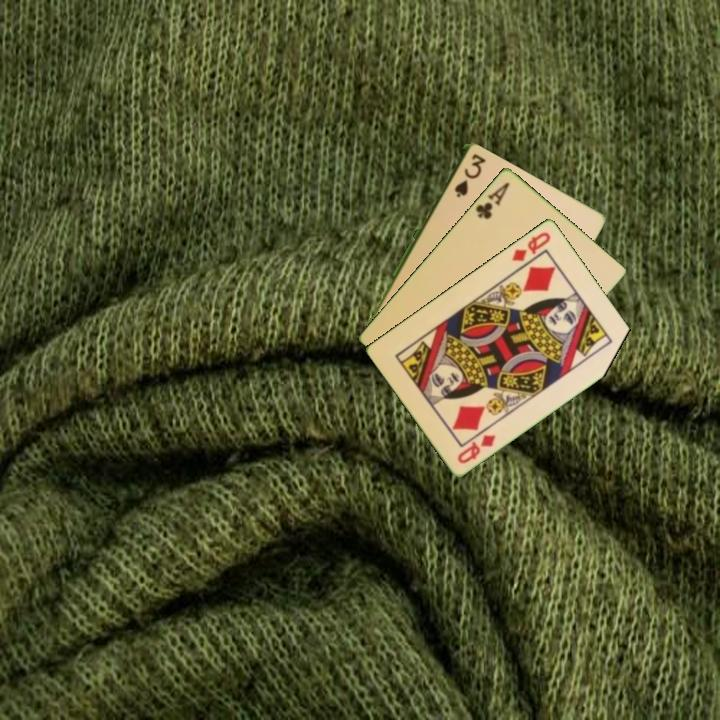3s: (451, 149, 486, 200)
Ac: (472, 178, 512, 222)
Qd: (508, 228, 554, 264), (454, 431, 499, 466)
